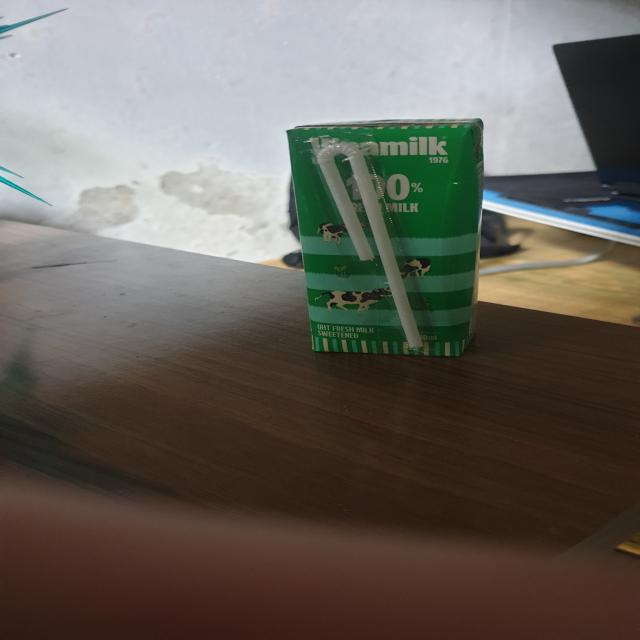Vina: (286, 117, 498, 363)
